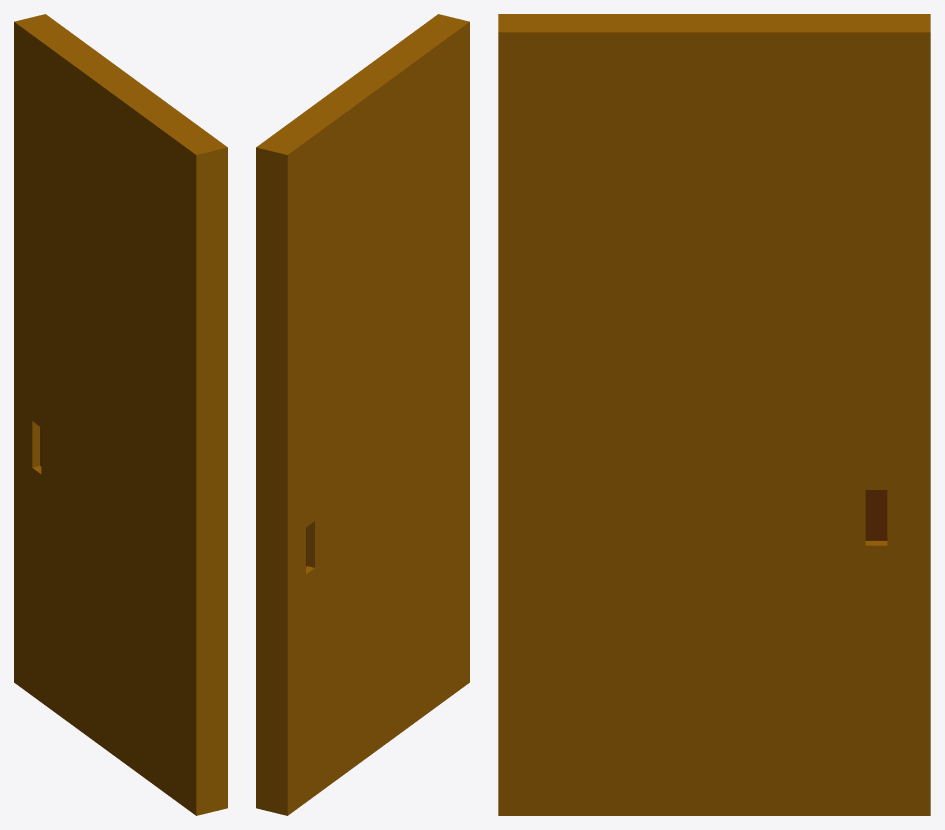
The model's file is Door.fbx.
3 views of the same model, side by side, from view 1: azimuth 30°, elevation 25°; view 2: azimuth 150°, elevation 25°; view 3: azimuth 270°, elevation 25° (orthographic). The views are drawn at different scales.
Parts seen in each view (by area): view 1: DoorPart; view 2: DoorPart; view 3: DoorPart.
Part boxes in pixels (<box>): DoorPart: <box>14,14,227,815</box>; DoorPart: <box>256,14,469,815</box>; DoorPart: <box>498,14,930,815</box>.
Bounding box in the file's own units: 40 × 800 × 400.
